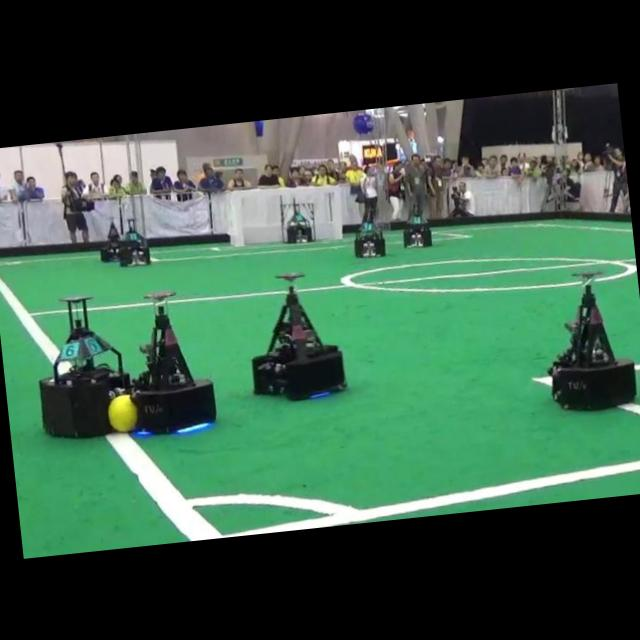ball: (107, 393, 138, 431)
goal: (229, 190, 245, 245), (333, 184, 343, 238)
robot: (39, 296, 129, 436), (132, 289, 216, 432), (549, 271, 636, 408), (251, 273, 345, 399), (280, 195, 315, 242), (119, 218, 149, 266), (403, 198, 431, 245), (355, 221, 385, 257), (99, 220, 119, 260)
